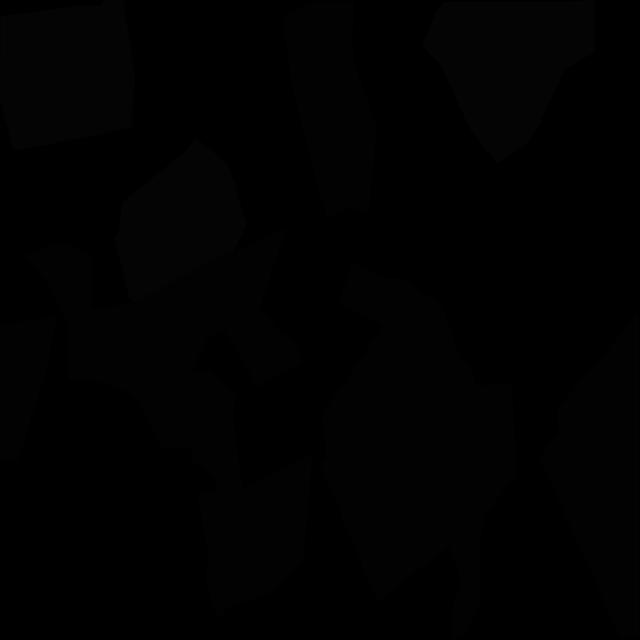cardboard: (320, 262, 517, 639), (24, 228, 303, 450), (539, 311, 639, 638), (192, 418, 312, 618), (283, 1, 378, 219), (0, 317, 57, 461)
soft_plastic: (422, 0, 594, 164), (114, 138, 247, 302)
